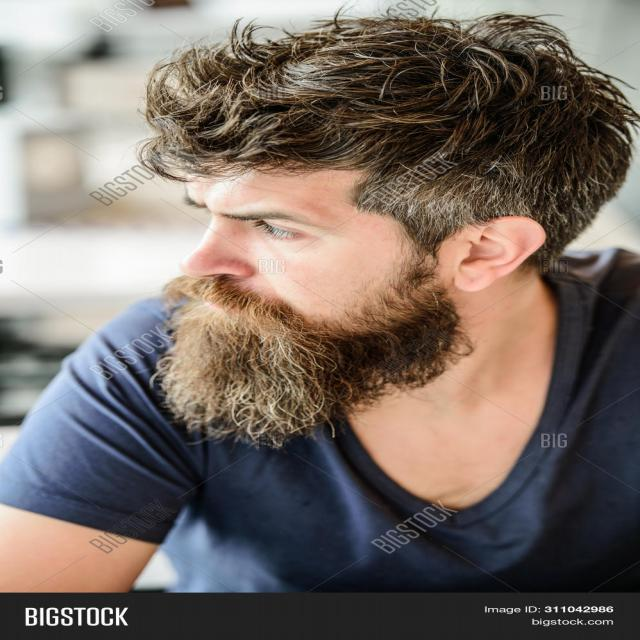beard: (154, 260, 469, 448)
hair: (139, 13, 639, 246)
